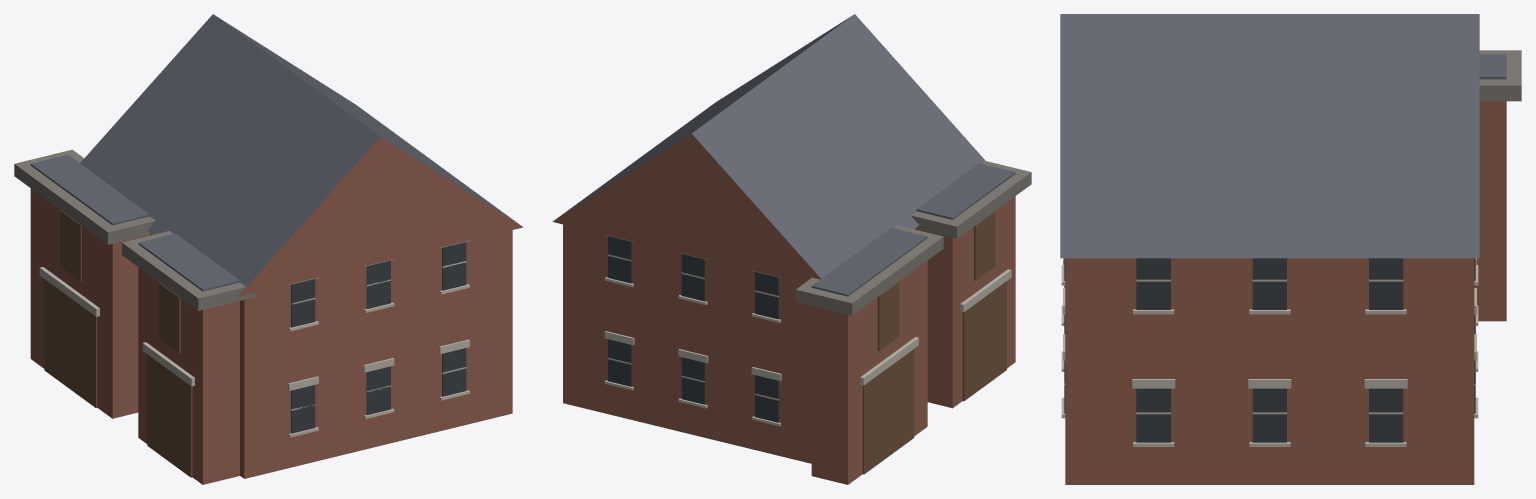
The model's file is shortall_gregory_house_1638_prairie_coach_house__draft_1904.glb.
3 renders of one model, left to right at view 1: azimuth 30°, elevation 25°; view 2: azimuth 150°, elevation 25°; view 3: azimuth 270°, elevation 25°, orthographic. The views are drawn at different scales.
Visible parts, largest first — view 1: shortall_gregory_house_1638_prairie_coach_house__draft_1904; view 2: shortall_gregory_house_1638_prairie_coach_house__draft_1904; view 3: shortall_gregory_house_1638_prairie_coach_house__draft_1904.
Boxes of the visible parts, x1=… form: shortall_gregory_house_1638_prairie_coach_house__draft_1904: x1=14, y1=14, x2=523, y2=484; shortall_gregory_house_1638_prairie_coach_house__draft_1904: x1=552, y1=14, x2=1031, y2=484; shortall_gregory_house_1638_prairie_coach_house__draft_1904: x1=1060, y1=14, x2=1521, y2=484.
Bounding box in the file's own units: 10.9 × 9.98 × 10.72.
